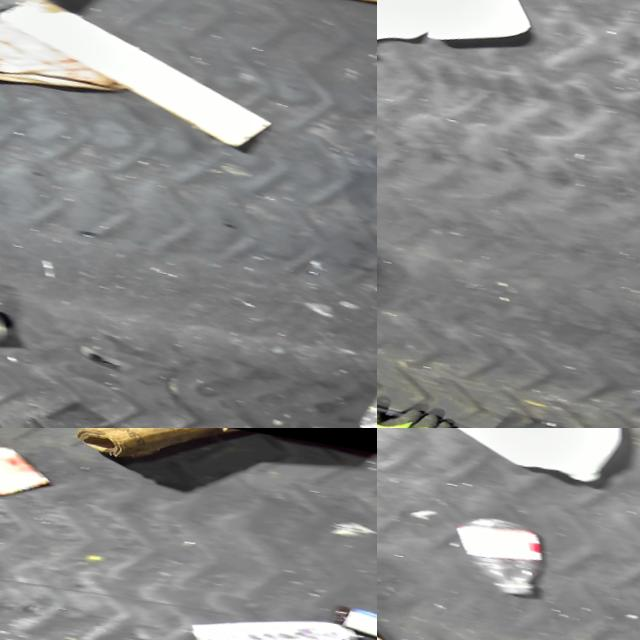can: (176, 597, 365, 640), (0, 433, 55, 508)
milk_jug: (392, 428, 630, 488)
non_white_jug: (353, 99, 377, 224)
plastic_bottle: (434, 510, 545, 599)
